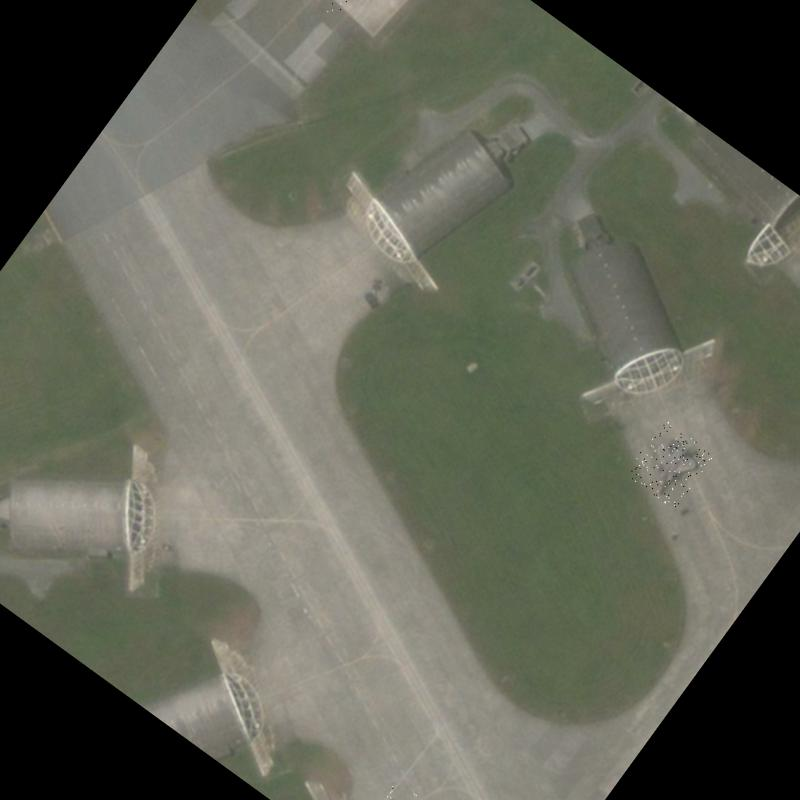A15: (624, 418, 714, 510), (289, 0, 382, 22), (359, 780, 454, 800)
